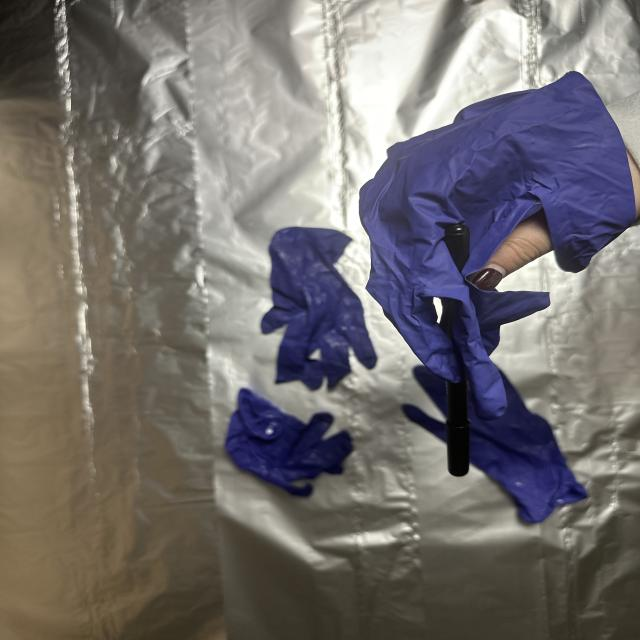glove_not_fitted: (340, 59, 634, 430)
